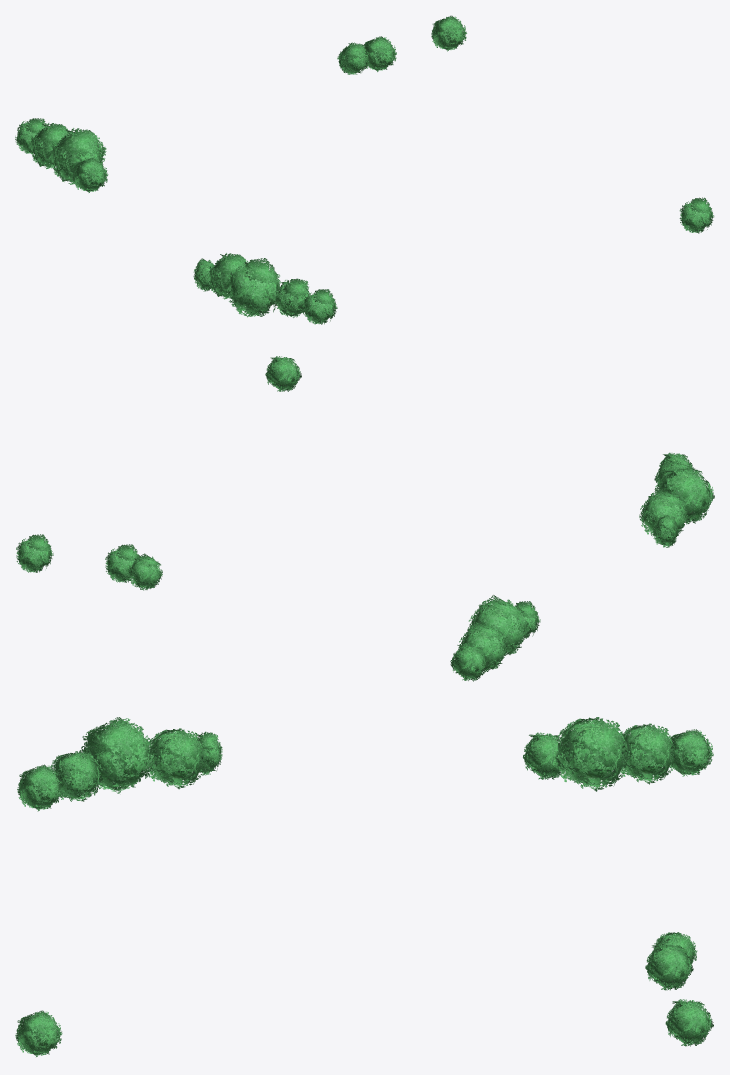
File: set_bush_core.glb
3 renders of one model, top to bottom at view 1: azimuth 30°, elevation 25°; view 2: azimuth 150°, elevation 25°; view 3: azimuth 270°, elevation 25°, orthographic. The views are drawn at different scales.
Parts seen in each view (by area): view 1: set_bush; view 2: set_bush; view 3: set_bush.
Boxes of the visible parts, left/top/right/bottom form: set_bush: left=15, top=15, right=714, bottom=324; set_bush: left=16, top=356, right=714, bottom=681; set_bush: left=15, top=717, right=713, bottom=1056.
Bounding box in the file's own units: 31.89 × 3.9 × 31.71.
Materials: 1 (1 with a texture image).
